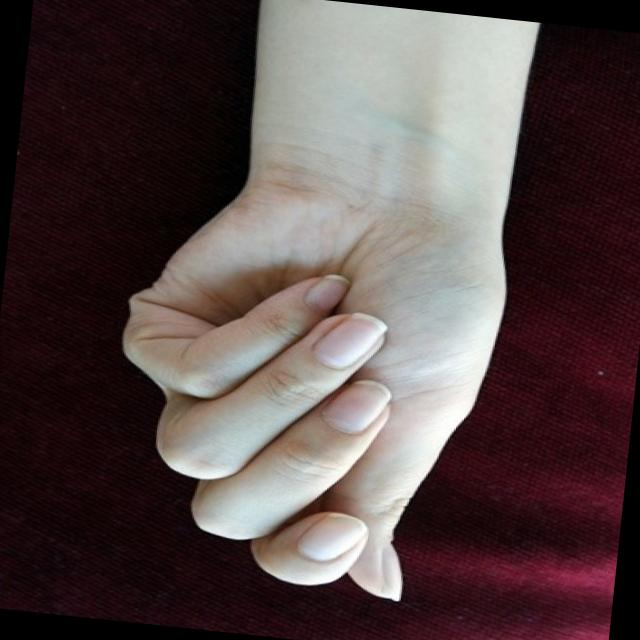Nail: (308, 311, 386, 368), (322, 378, 391, 433), (297, 510, 368, 561), (303, 272, 350, 309), (377, 544, 401, 599)
